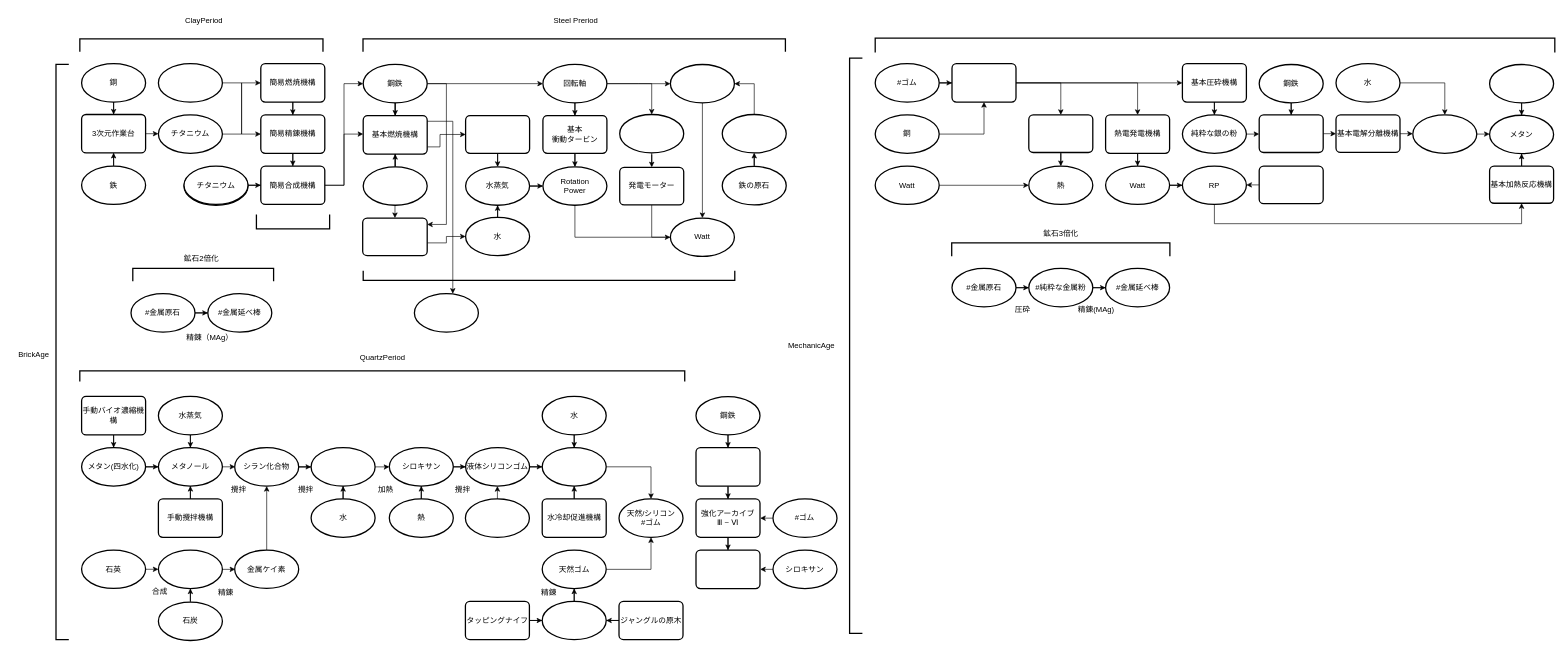
Image size: 1566x652. Some labels were removed from this diagram. Each missing label, with the centre of its shape:
HydrogenPeriod: [1214,45]
オスミウム: [190,82]
ケイ素: [190,569]
コイル: [702,83]
シラン混合物: [342,466]
シリコンゴム: [574,466]
タングステン: [395,186]
ニッケル触媒 + 二酸化炭素: [1521,83]
マグネタイト: [754,133]
二酸化炭素: [446,312]
仮設火力発電機: [548,275]
仮設精錬炉 仮設合成炉: [292,221]
回転翼: [651,133]
基本加圧パイプ: [1291,133]
基本加熱機構: [497,134]
基本液体ポンプ: [395,236]
基本送電ケーブル: [983,82]
基本電気モーター: [1291,184]
強化アーカイブ Ⅰ ~ Ⅱ: [727,466]
強化アーカイブ Ⅴ: [727,569]
抵抗熱源機構 + #金属ブロック: [1060,133]
方解石: [497,518]
樹脂: [574,620]
酸素/水素: [1444,134]
